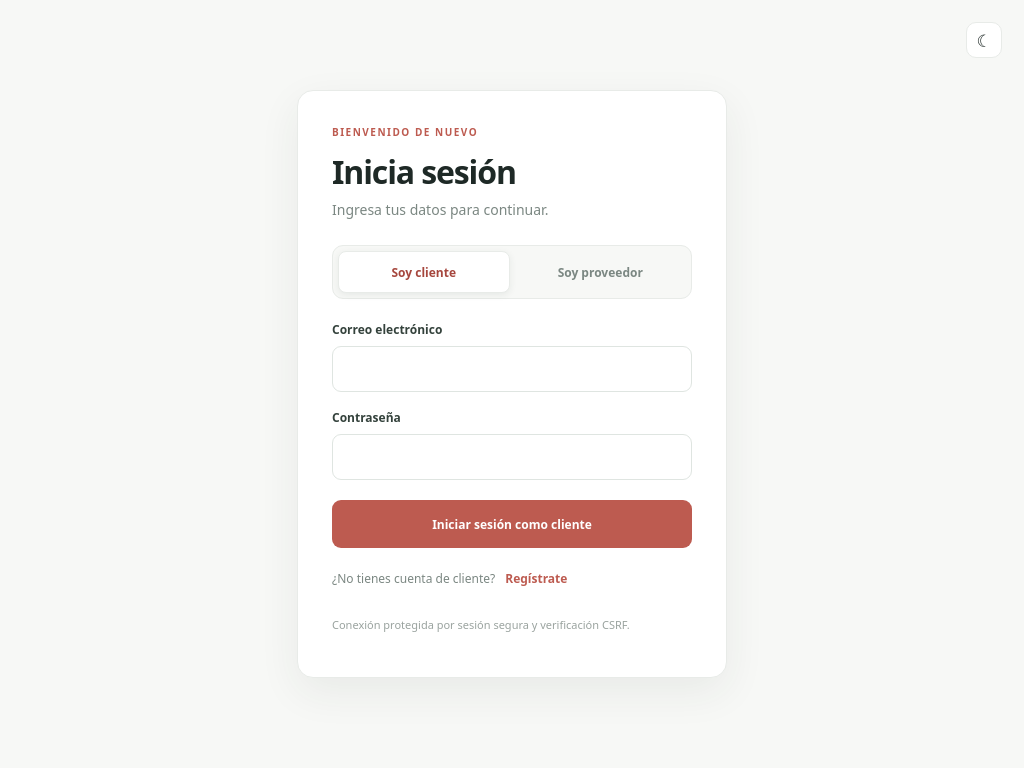
it: AccessPage › preserves entered login fields and opens provider registration from provider selection
The image size is (1024, 768).
In the field labelled "Correo electrónico": [512, 369] box x1=332 y1=346 x2=692 y2=392, type "provider@example.com"
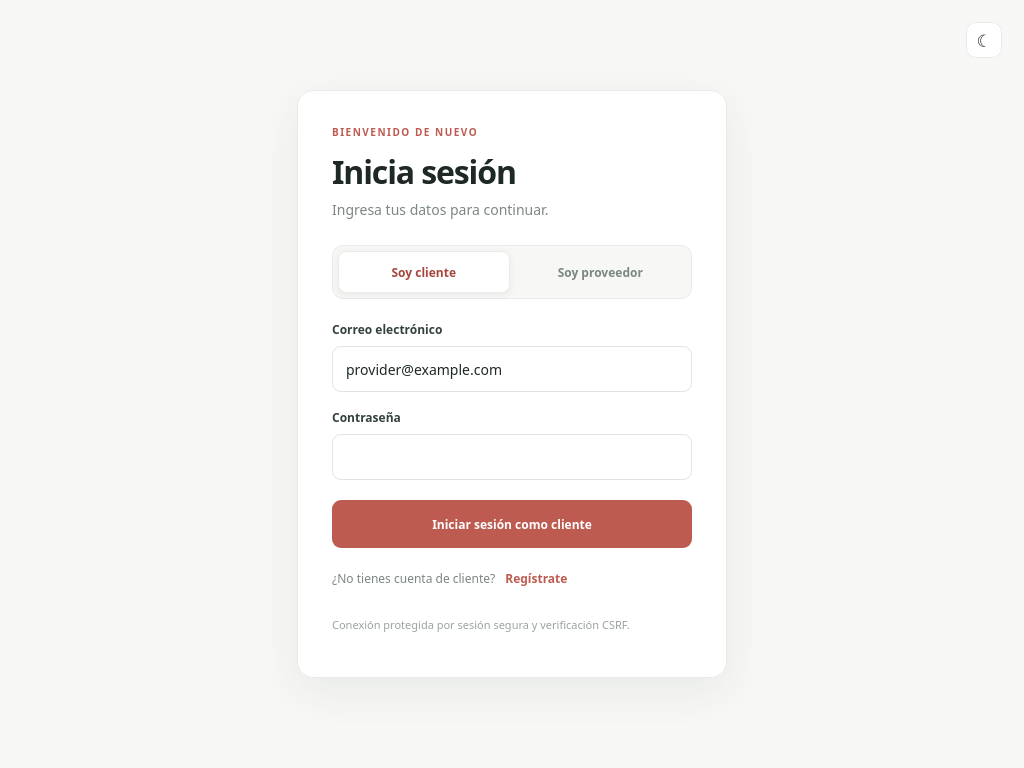
In the password field labelled "Contraseña": [512, 457] box x1=332 y1=434 x2=692 y2=480, type "password123"
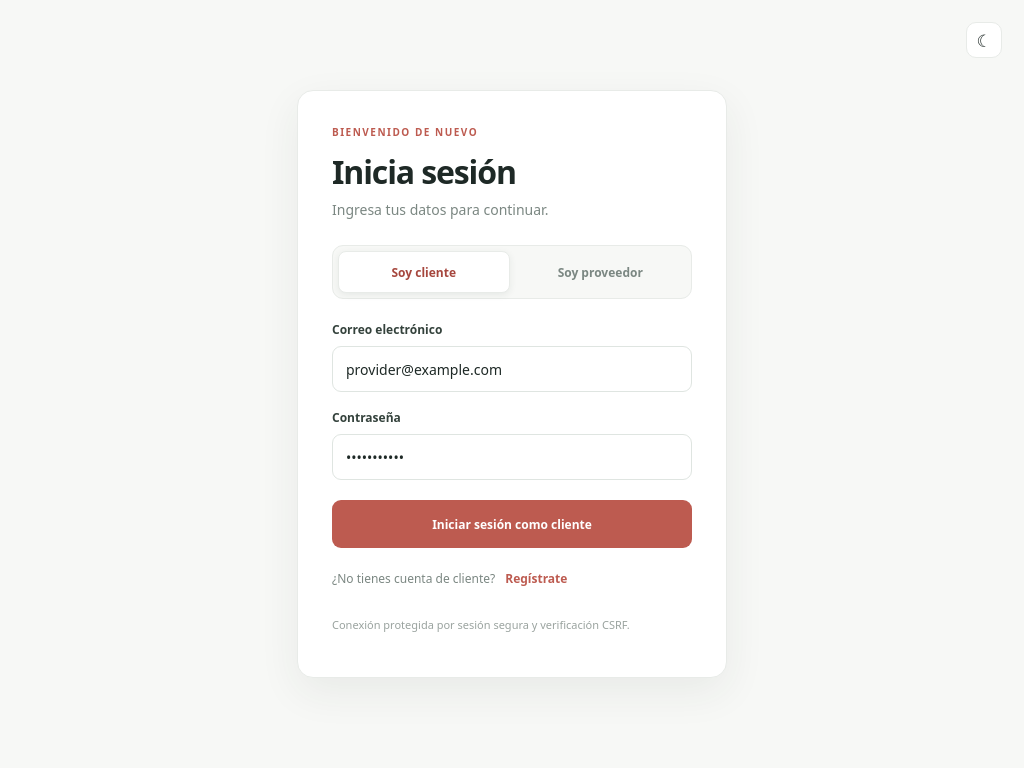
Click the radio button labelled "Soy proveedor": [600, 272] box x1=514 y1=251 x2=686 y2=293
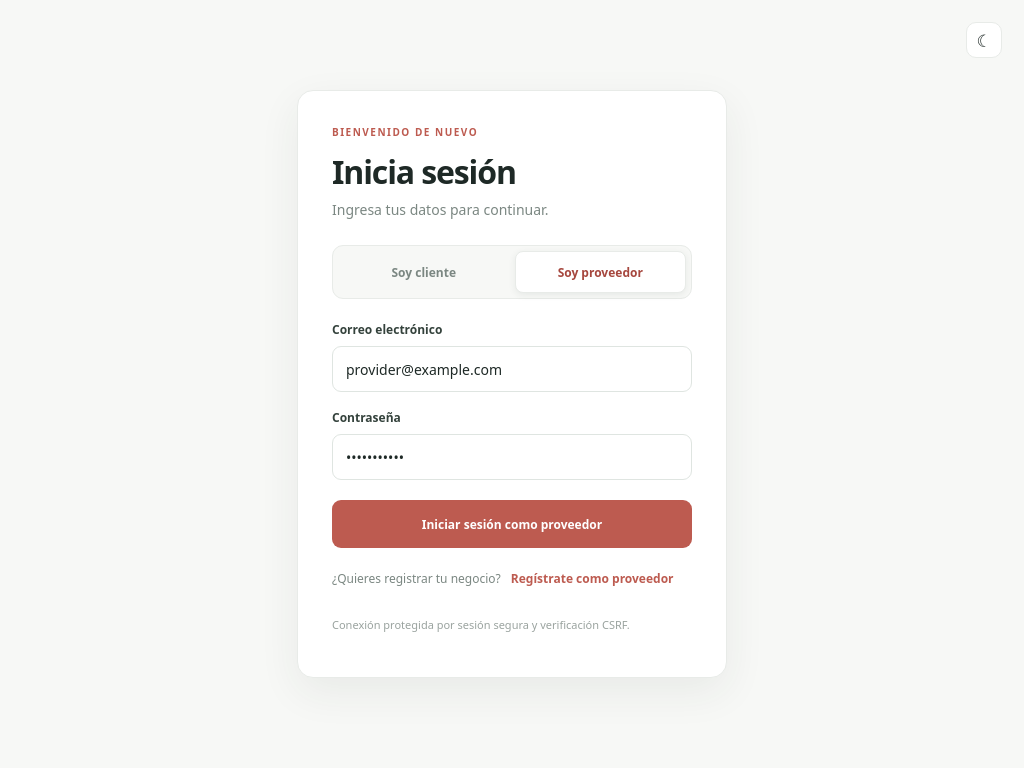
Expected: the button "Iniciar sesión como proveedor" is shown, x1=332 y1=500 x2=692 y2=548
Expected: the text "¿Quieres registrar tu negocio?" is shown, x1=332 y1=570 x2=501 y2=587
Click the button "Regístrate como proveedor": [592, 578] box x1=511 y1=570 x2=674 y2=587
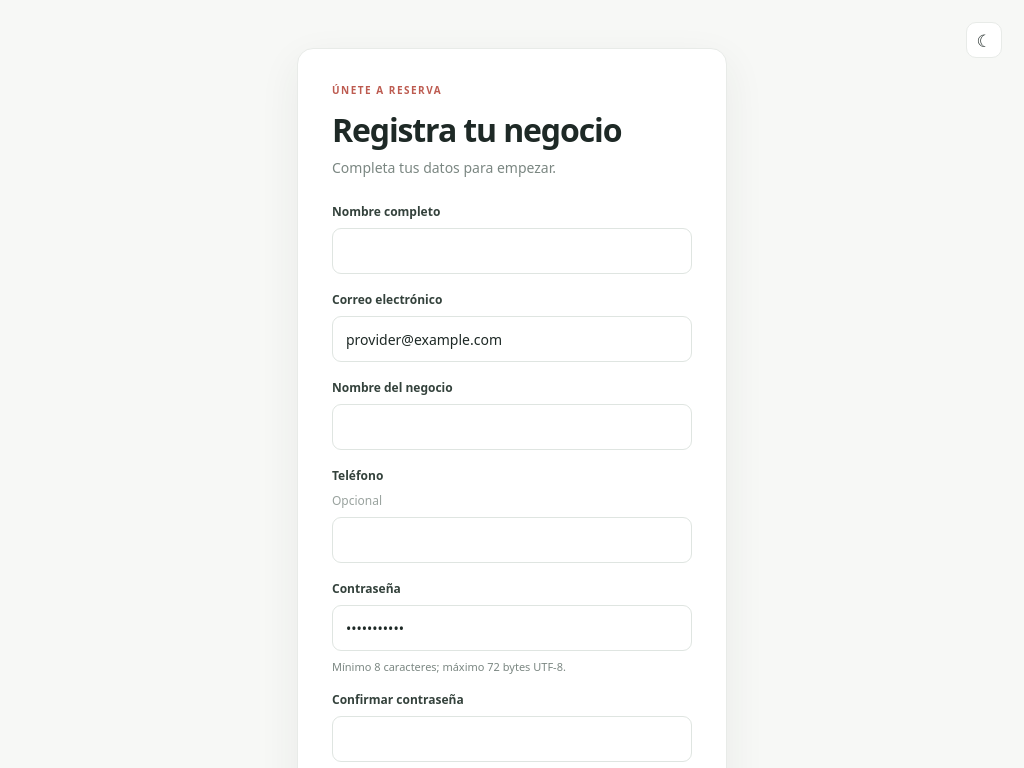
Expected: the heading "Registra tu negocio" is shown, x1=332 y1=108 x2=621 y2=151
